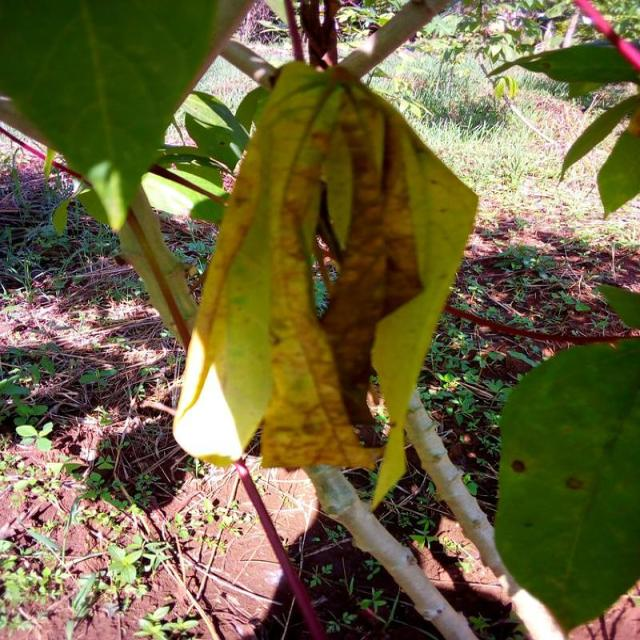cassava leaf: (170, 59, 480, 508), (0, 0, 254, 233), (493, 335, 638, 632)
